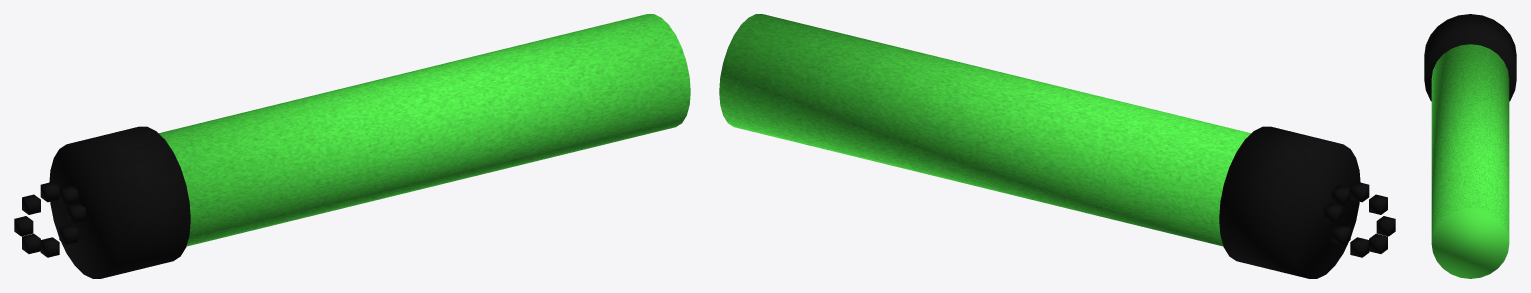
The model's file is SignalSmoke_Chemlight.fbx.
3 views of the same model, side by side, from view 1: azimuth 30°, elevation 25°; view 2: azimuth 150°, elevation 25°; view 3: azimuth 270°, elevation 25° (orthographic). The views are drawn at different scales.
Parts seen in each view (by area): view 1: SignalSmoke_Chemlight; view 2: SignalSmoke_Chemlight; view 3: SignalSmoke_Chemlight.
Boxes of the visible parts, x1,y1,x2,y2 form: SignalSmoke_Chemlight: (14, 14, 690, 278); SignalSmoke_Chemlight: (719, 14, 1395, 278); SignalSmoke_Chemlight: (1424, 14, 1516, 278).
Bounding box in the file's own units: 53.5 × 10 × 10.
